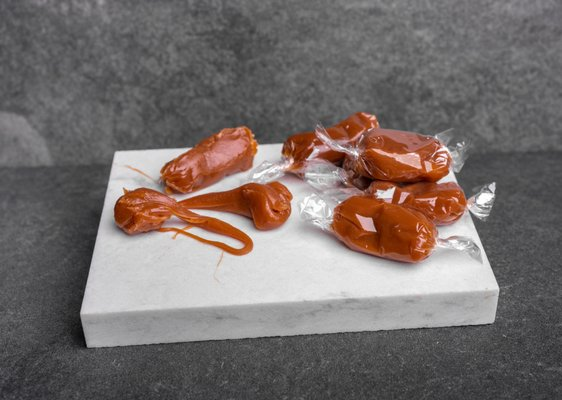salad: (329, 195, 438, 264), (159, 126, 259, 195)
